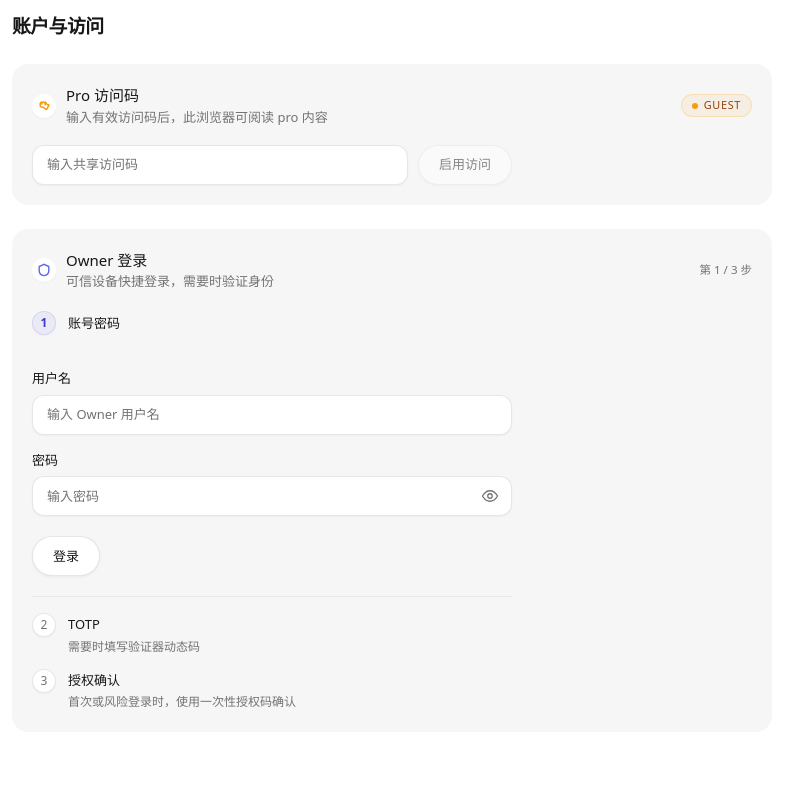
it: keeps the password stage after rejected credentials and exposes a generic failure
Type "owner" into the field labelled "用户名".
click(272, 415); type("owner")  # box [32, 395, 512, 435]
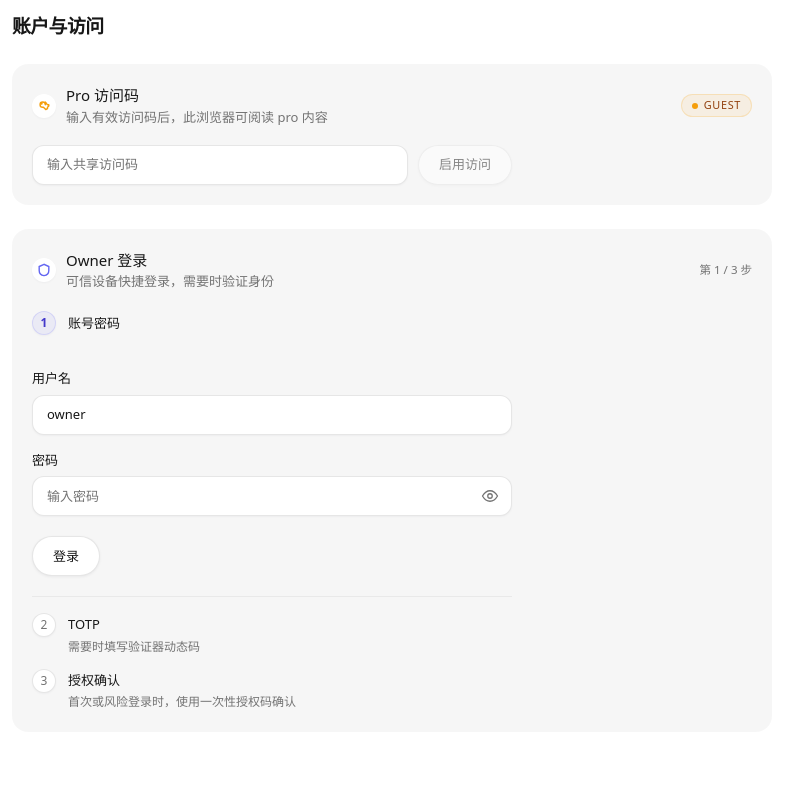
Type "wrong-password" into the password field labelled "密码".
click(272, 496); type("wrong-password")  # box [32, 476, 512, 516]
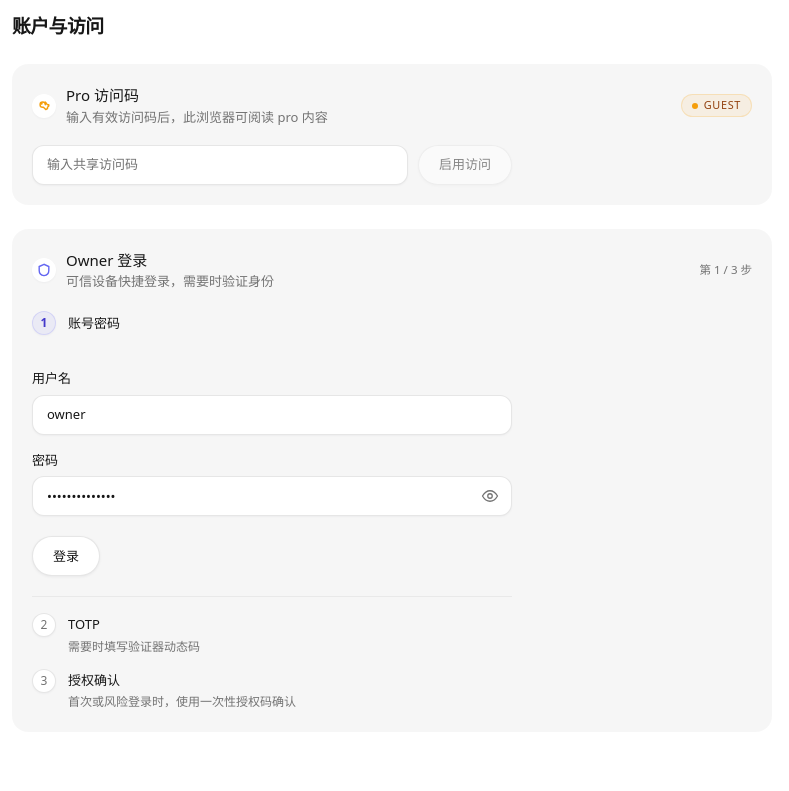
Click the button "登录".
click(66, 556)  # box [32, 536, 100, 576]
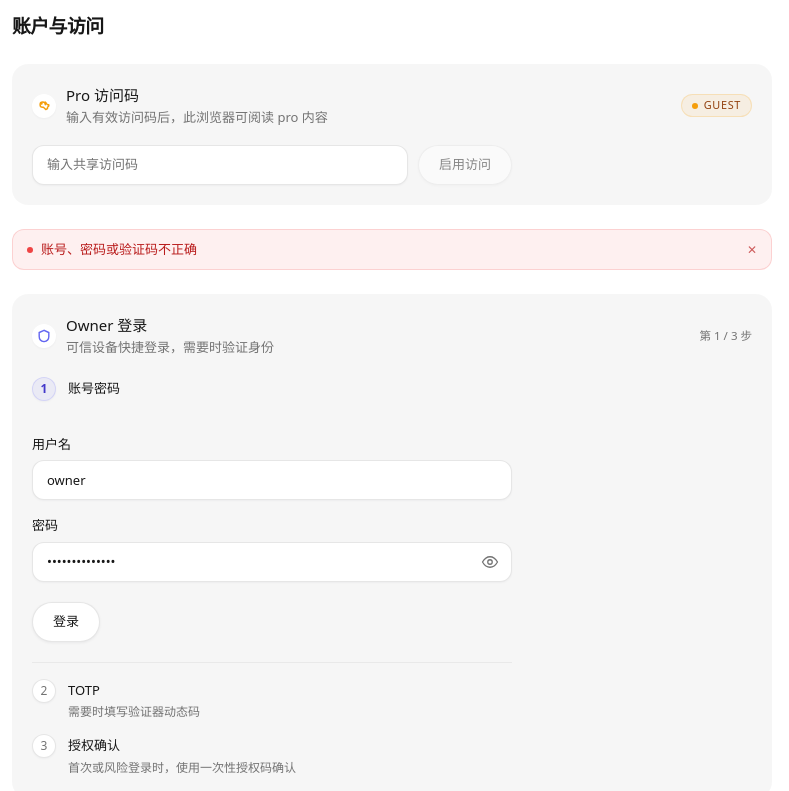
Result: the message shows "账号、密码或验证码不正确" at [41, 240, 197, 258]
